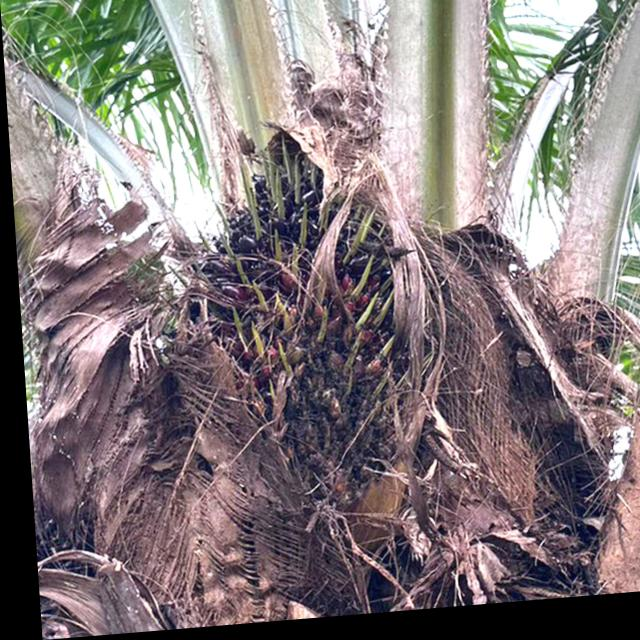unripe: (155, 135, 471, 539)
